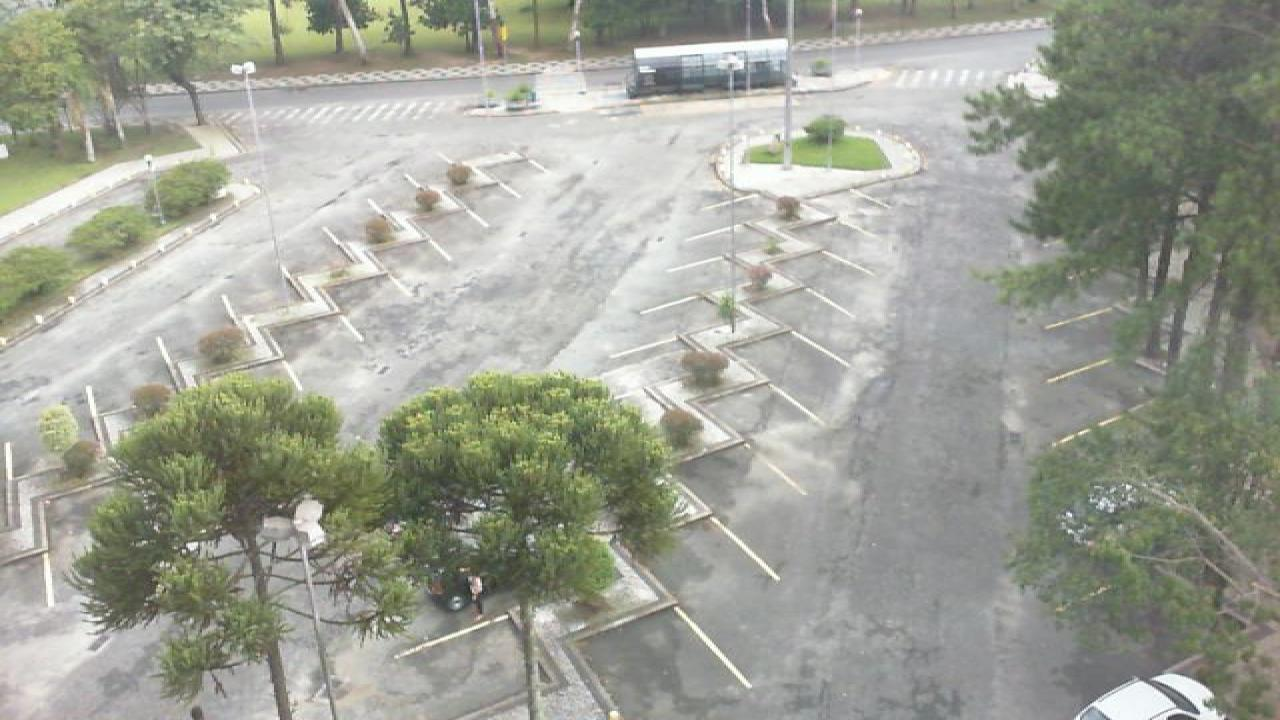Car: (1074, 671, 1228, 720)
